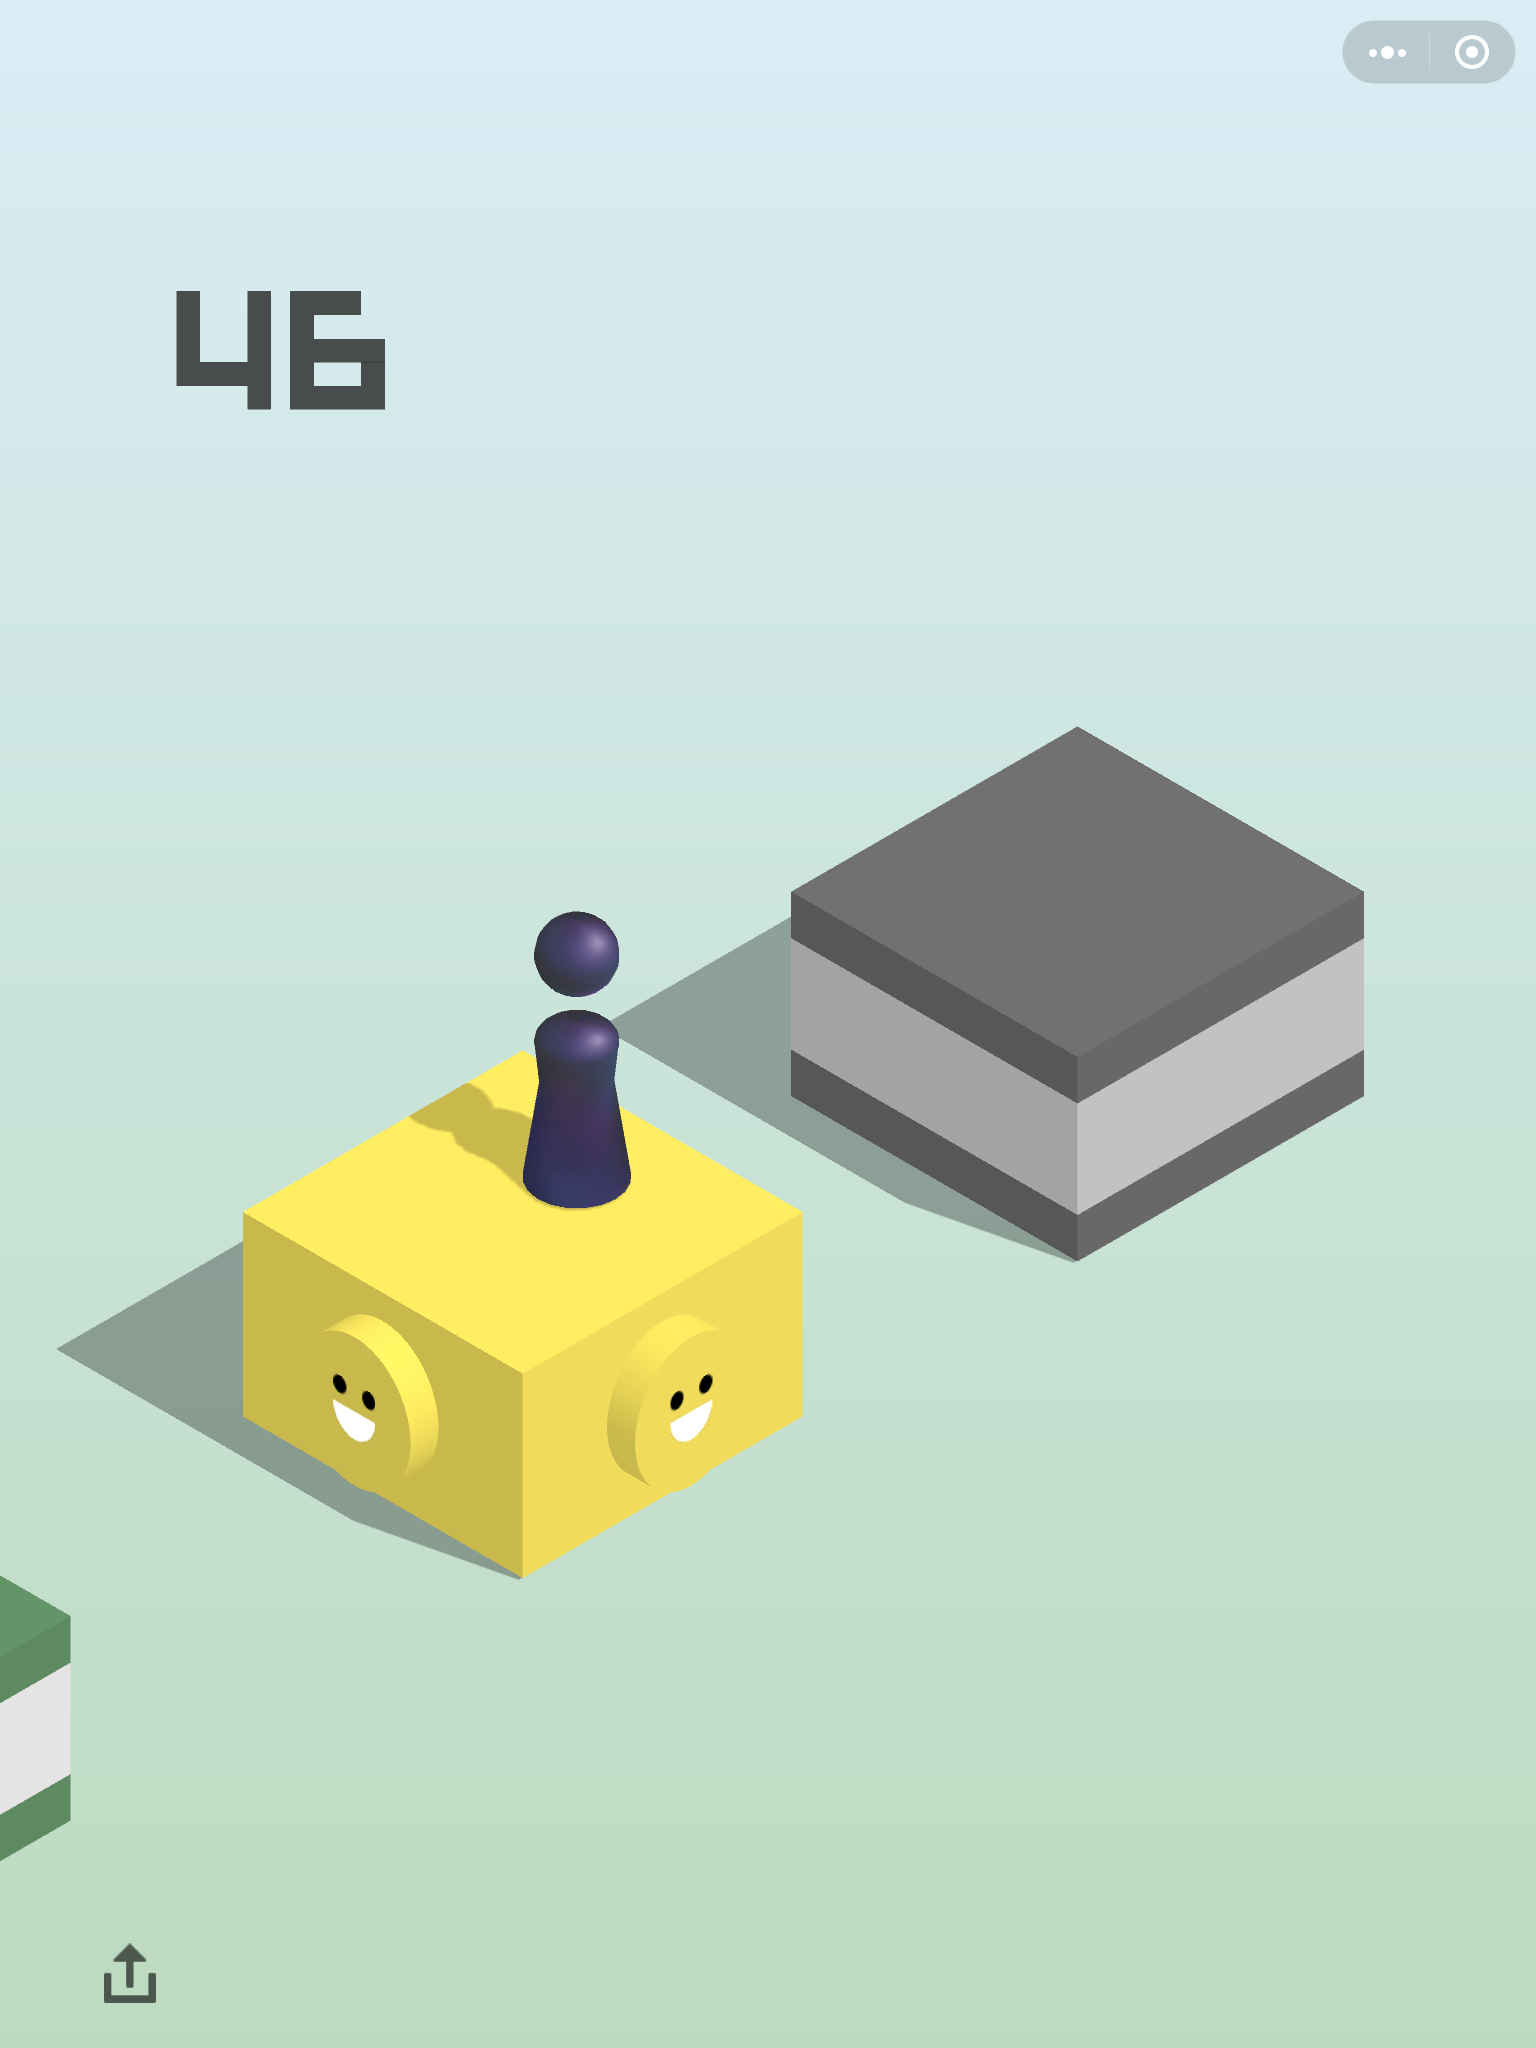f: (787, 722, 1371, 1268), (239, 1039, 807, 1588)
r: (520, 906, 634, 1213)
